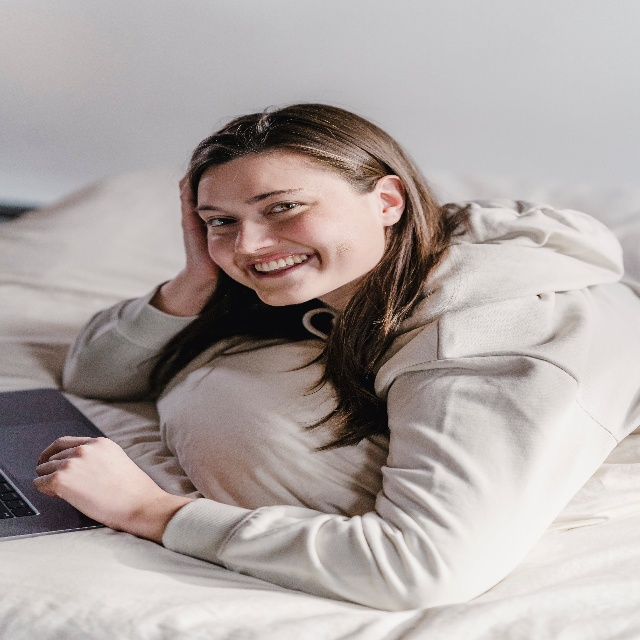Sin_guantes: (33, 435, 156, 531), (178, 173, 219, 294)
